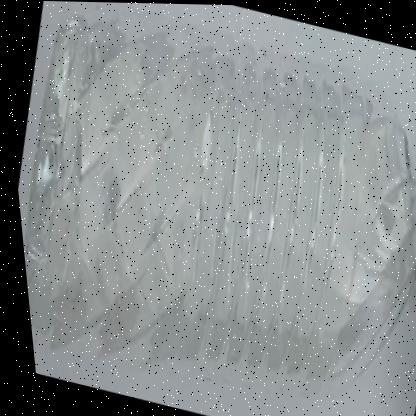open bottle: (260, 34, 416, 416)
